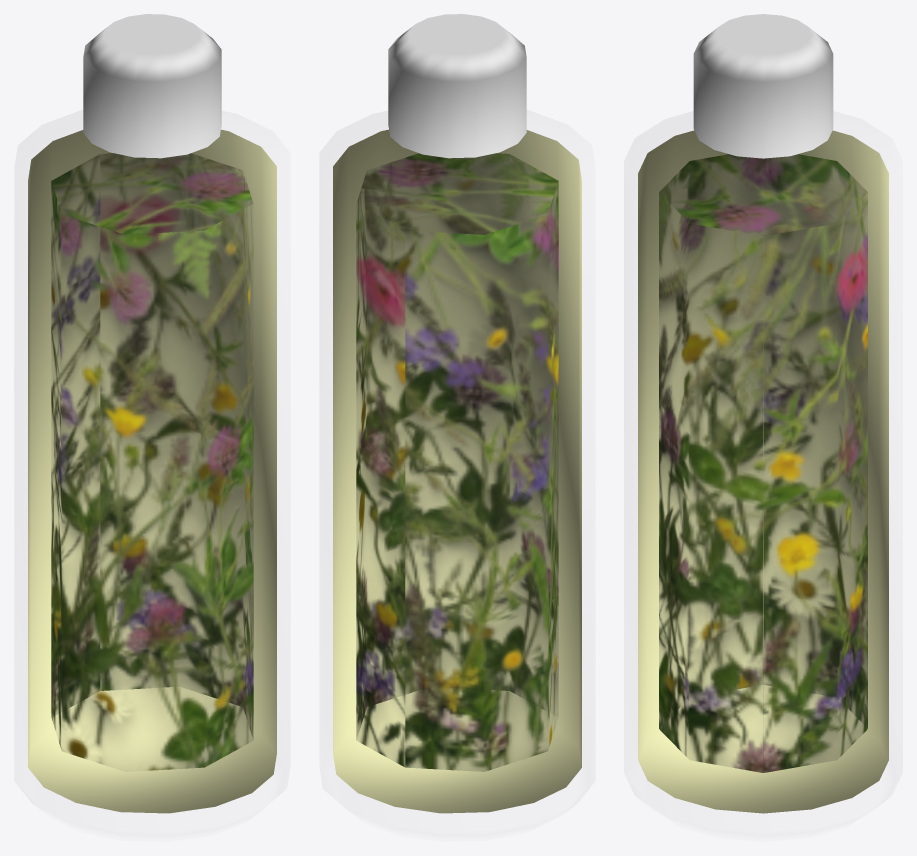
Rendered from herbarium.glb.
3 views of the same model, side by side, from view 1: azimuth 30°, elevation 25°; view 2: azimuth 150°, elevation 25°; view 3: azimuth 270°, elevation 25° (orthographic).
Visible parts, largest first — view 1: oil3, plant, Cylinder; view 2: oil3, plant, Cylinder; view 3: plant, oil3, Cylinder.
Part boxes in pixels (x1=…): oil3: x1=28, y1=129, x2=276, y2=813; plant: x1=51, y1=153, x2=253, y2=770; Cylinder: x1=83, y1=14, x2=221, y2=158; oil3: x1=333, y1=129, x2=581, y2=813; plant: x1=356, y1=153, x2=558, y2=771; Cylinder: x1=388, y1=14, x2=526, y2=158; plant: x1=659, y1=154, x2=867, y2=772; oil3: x1=638, y1=130, x2=888, y2=813; Cylinder: x1=693, y1=14, x2=833, y2=158.
Bounding box in the file's own units: 0.04 × 0.12 × 0.04.
4 materials, 1 textured.
